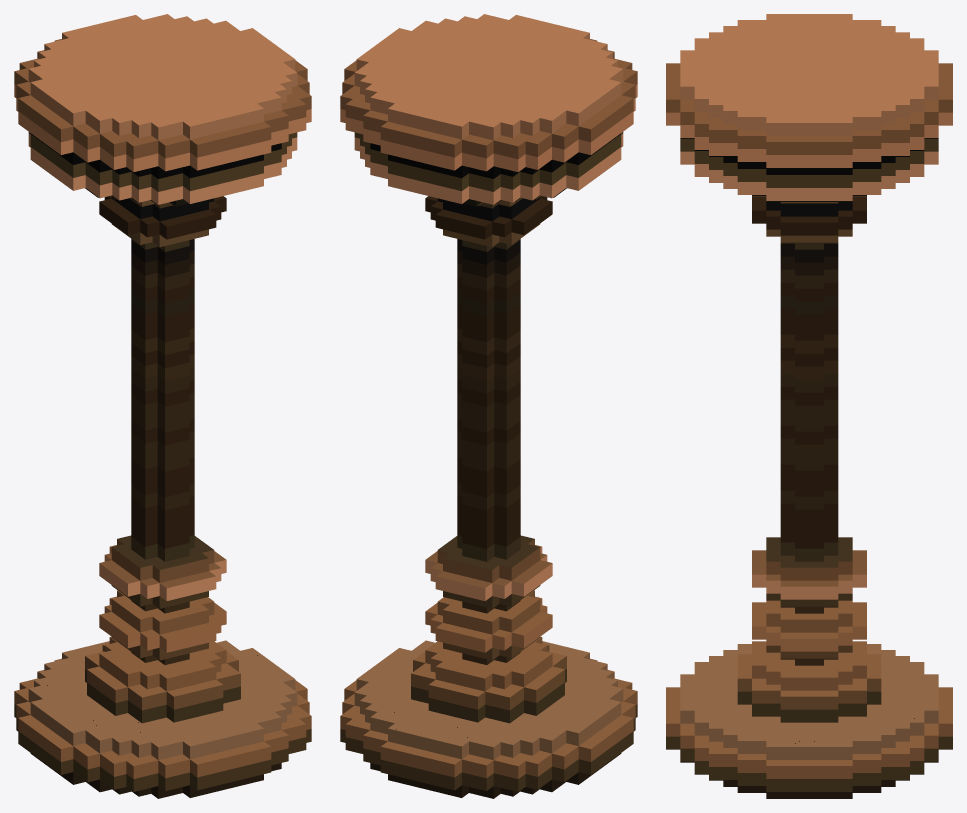
The model's file is TRED_stand.obj.
3 views of the same model, side by side, from view 1: azimuth 30°, elevation 25°; view 2: azimuth 150°, elevation 25°; view 3: azimuth 270°, elevation 25° (orthographic).
Visible parts, largest first — view 1: TorchFlame; view 2: TorchFlame; view 3: TorchFlame.
Boxes of the visible parts, bbox=[...] form: TorchFlame: bbox=[14, 14, 311, 798]; TorchFlame: bbox=[340, 14, 637, 798]; TorchFlame: bbox=[666, 14, 952, 798].
Bounding box in the file's own units: 0.3846 × 1 × 0.3846.
Materials: 1 (1 with a texture image).
